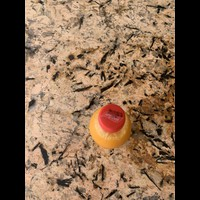maguary: (88, 103, 132, 150)
